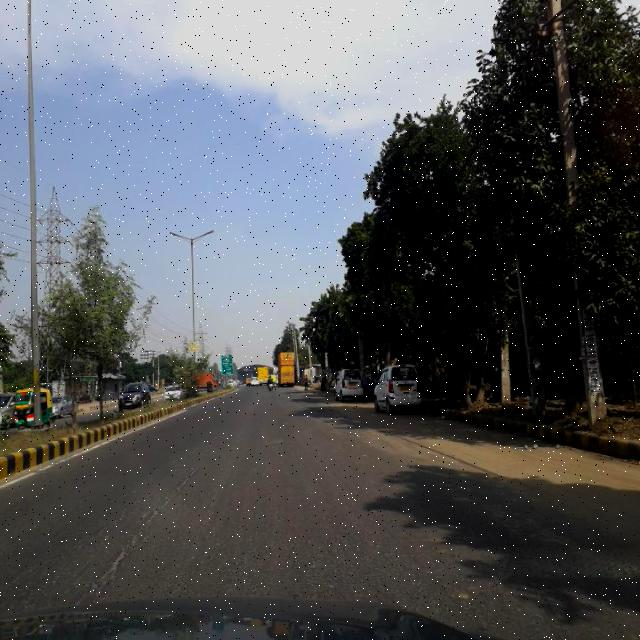D00: (119, 450, 208, 525), (76, 525, 140, 602)
